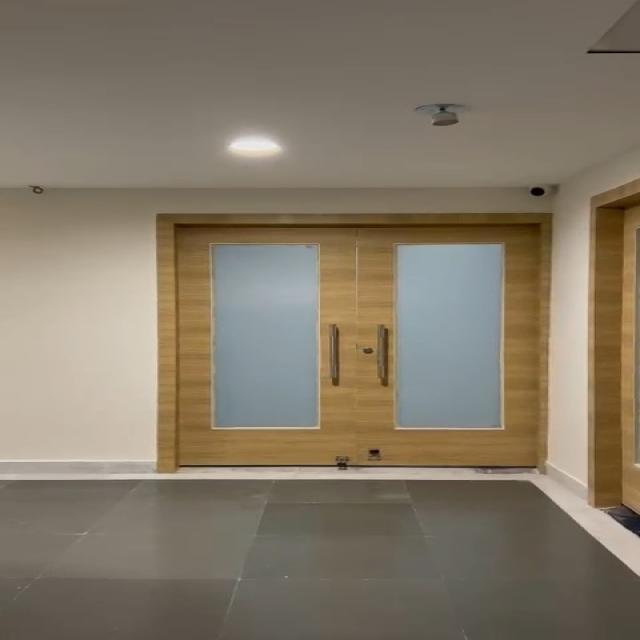door: (155, 212, 537, 470), (584, 195, 640, 505)
floor: (0, 475, 575, 640)
wall: (0, 186, 155, 459)
